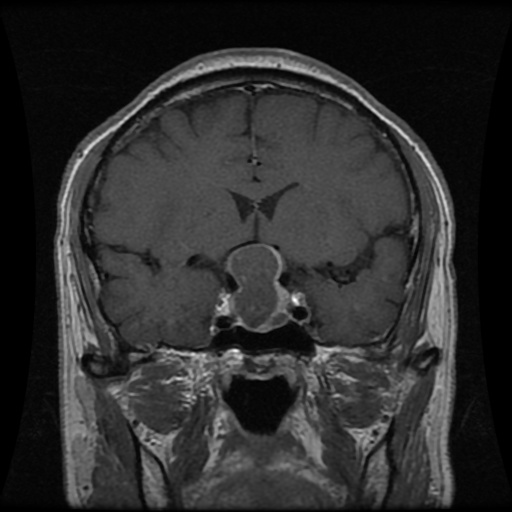pituitary: (219, 242, 289, 334)
